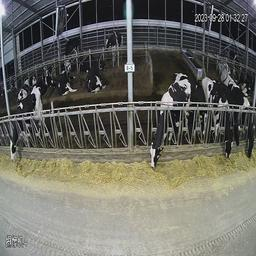cow: (146, 79, 193, 169), (200, 74, 231, 162), (224, 78, 255, 161), (8, 86, 43, 153), (179, 71, 208, 138), (217, 78, 240, 143), (85, 59, 107, 94), (16, 76, 36, 111), (105, 31, 124, 62), (57, 68, 77, 97), (36, 73, 55, 98), (63, 39, 79, 65)
